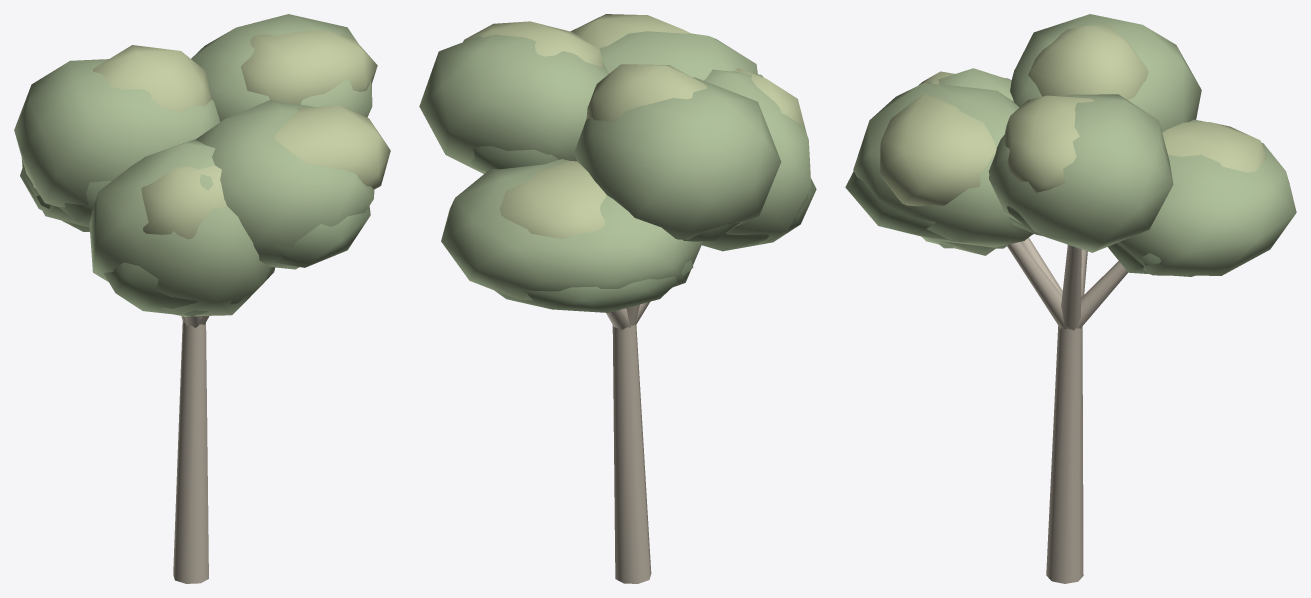
File: tree_eucalyptus_2.glb
3 renders of one model, left to right at view 1: azimuth 30°, elevation 25°; view 2: azimuth 150°, elevation 25°; view 3: azimuth 270°, elevation 25°, orthographic.
Visible parts, largest first — view 1: tree_eucalyptus_2.glb; view 2: tree_eucalyptus_2.glb; view 3: tree_eucalyptus_2.glb.
Part boxes in pixels (bbox=[...]): tree_eucalyptus_2.glb: bbox=[14, 14, 390, 583]; tree_eucalyptus_2.glb: bbox=[419, 14, 816, 583]; tree_eucalyptus_2.glb: bbox=[845, 14, 1296, 583].
Bounding box in the file's own units: 4.69 × 7.21 × 5.57.
